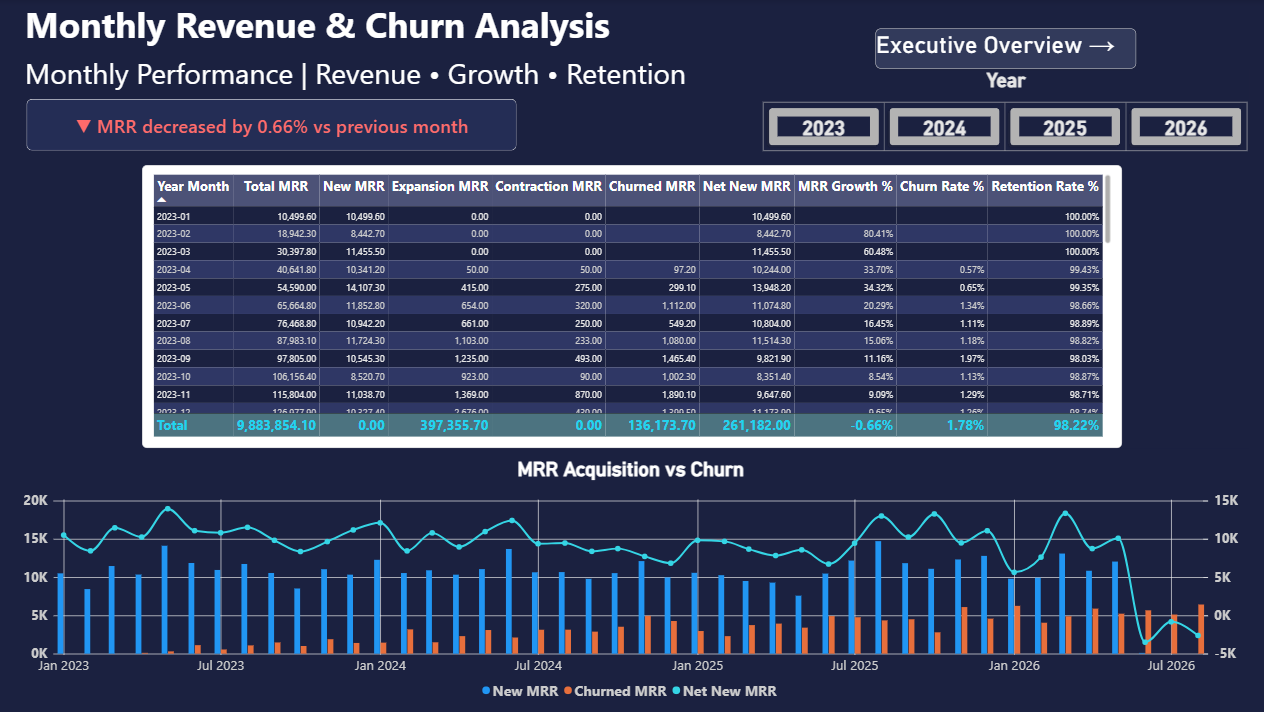

What the dashboard file says about the page in this screenshot:
{"tool":"powerbi","page":{"name":"Monthly Analysis","canvas":[1920,1080],"ordinal":0},"visuals":[{"type":"tableEx","fields":{"Values":["Date.Year Month","Date.Total MRR","Date.New MRR","Date.Expansion MRR","Date.Contraction MRR","Date.Churned MRR","Date.Net New MRR","Date.MRR Growth %","Date.Churn Rate %","Date.Retention Rate %"]},"box":[218.4,250,1484.2,428.9],"z":1},{"type":"textbox","box":[41.1,0,919.8,82.2],"z":2},{"type":"textbox","box":[41.1,82.2,1117.6,69.4],"z":3},{"type":"advancedSlicerVisual","fields":{"Values":["Date.Year"]},"box":[1157.9,105.3,735.9,124.9],"z":4},{"type":"lineClusteredColumnComboChart","title":"MRR Acquisition vs Churn","fields":{"Category":["Date.Date"],"Y":["Date.New MRR","Date.Churned MRR"],"Y2":["Date.Net New MRR"]},"box":[23.7,678.9,1871.1,400],"z":5},{"type":"cardVisual","fields":{"Data":["Date.MRR Insight"]},"box":[42.1,150,742.1,78.9],"z":6},{"type":"actionButton","title":" Executive Overview → →","box":[1328.9,42.1,394.7,60.5],"z":7}]}

Visuals, with their boxes in screenshot pixels (x1, y1, x2, y2), scaled from the page's 1920x1080 canvas onto the 1264x712 screenshot:
tableEx - Date.Year Month x Date.Total MRR: 144/165/1121/448
textbox: 27/0/633/54
textbox: 27/54/763/100
advancedSlicerVisual - Date.Year: 762/69/1247/152
"MRR Acquisition vs Churn" lineClusteredColumnComboChart: 16/448/1247/711
cardVisual - Date.MRR Insight: 28/99/516/151
" Executive Overview → →" actionButton: 875/28/1135/68
